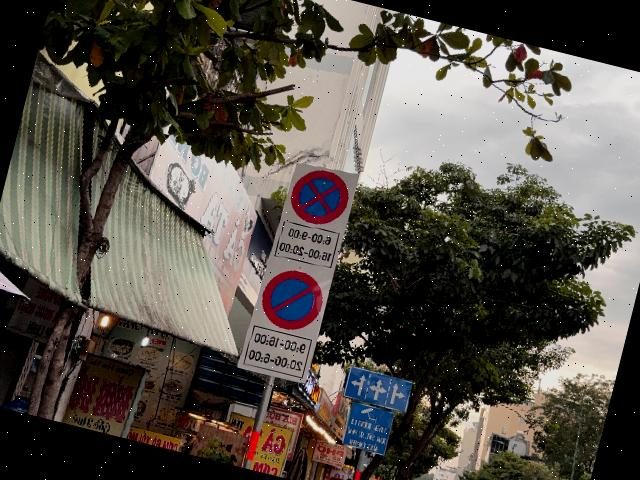cam-do-xe: (256, 264, 329, 336)
cam-dung-va-do-xe: (284, 162, 354, 232)
